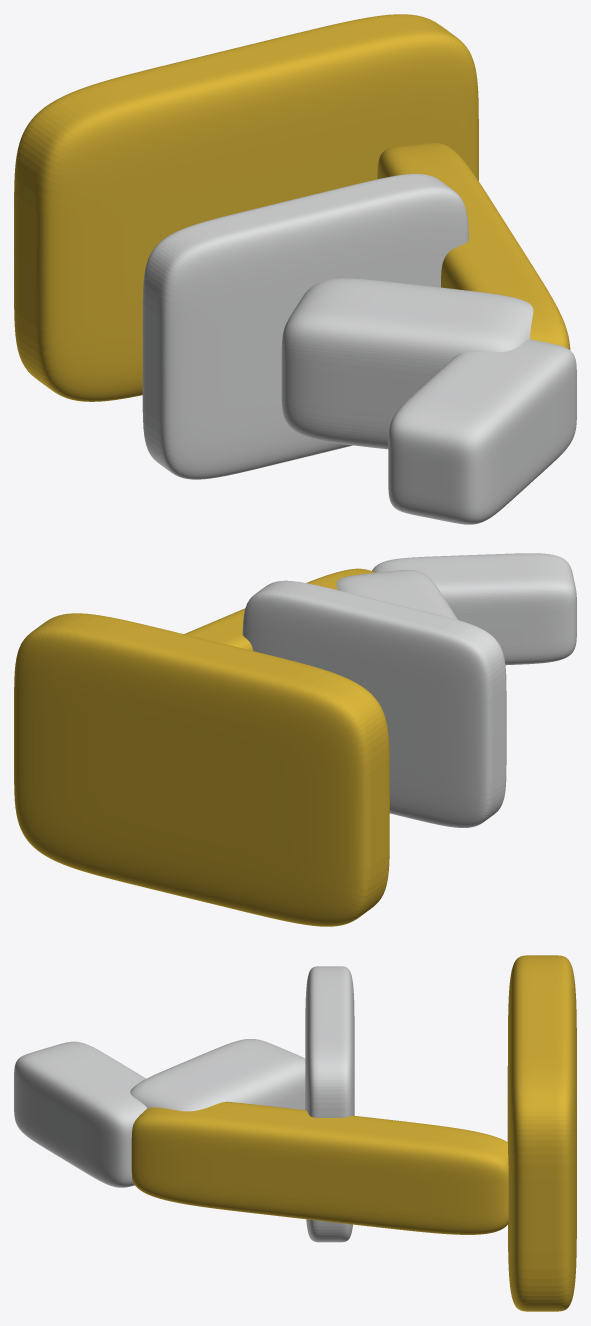
The model's file is retro_laboratory_microscope_sq.glb.
The picture shows the model from 3 angles, top to bottom: view 1: azimuth 30°, elevation 25°; view 2: azimuth 150°, elevation 25°; view 3: azimuth 270°, elevation 25°; orthographic projection. The views are drawn at different scales.
Visible parts, largest first — view 1: superquadric_0, superquadric_2, superquadric_4, superquadric_3, superquadric_1; view 2: superquadric_0, superquadric_2, superquadric_3, superquadric_4, superquadric_1; view 3: superquadric_1, superquadric_0, superquadric_3, superquadric_4, superquadric_2.
Part boxes in pixels (<box>): superquadric_0: <box>14,14,478,401</box>; superquadric_2: <box>142,173,468,479</box>; superquadric_4: <box>281,278,533,449</box>; superquadric_3: <box>388,339,576,524</box>; superquadric_1: <box>377,143,570,349</box>; superquadric_0: <box>14,613,389,926</box>; superquadric_2: <box>242,580,506,827</box>; superquadric_3: <box>372,553,576,665</box>; superquadric_4: <box>336,569,457,619</box>; superquadric_1: <box>184,568,375,650</box>; superquadric_1: <box>131,1101,508,1234</box>; superquadric_0: <box>507,955,576,1311</box>; superquadric_3: <box>14,1041,147,1187</box>; superquadric_4: <box>130,1039,305,1111</box>; superquadric_2: <box>305,966,354,1242</box>.
Bounding box in the file's own units: 0.7196 × 0.4563 × 1.
